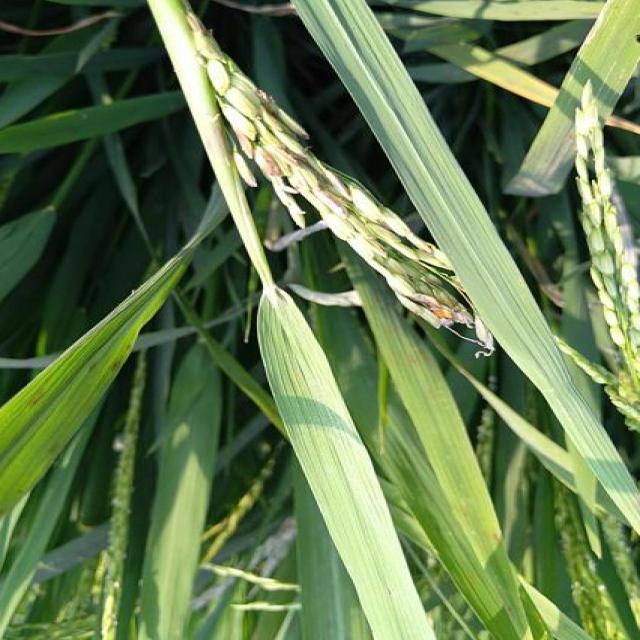Panicle Blight: (234, 115, 297, 175), (185, 0, 230, 65), (257, 89, 309, 139), (412, 294, 473, 328), (315, 169, 353, 207)
